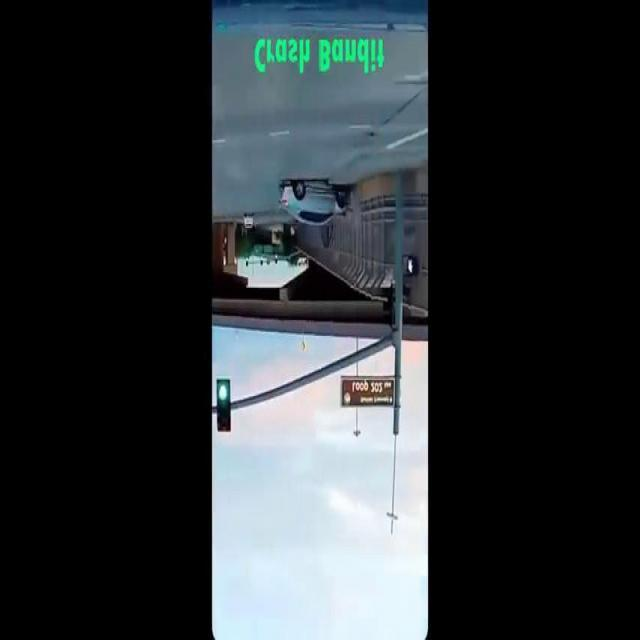moderate: (276, 178, 360, 238)
